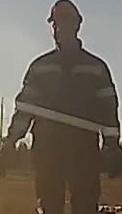gloves: (103, 142, 122, 180), (0, 133, 17, 161)
helmet: (46, 0, 84, 27)
vest: (21, 54, 111, 173)
